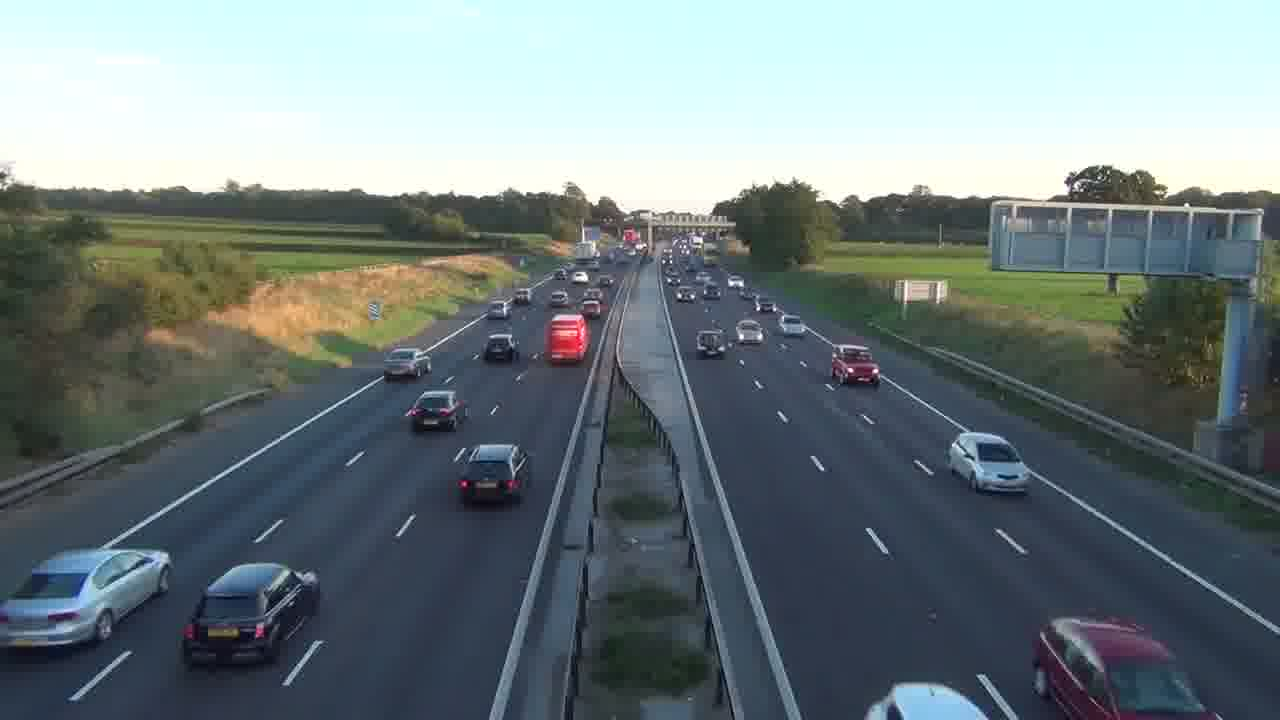car: (0, 545, 174, 650), (180, 561, 321, 668), (947, 430, 1030, 495), (453, 442, 532, 507), (864, 682, 989, 720), (404, 390, 467, 431), (830, 345, 881, 387), (383, 348, 432, 382), (483, 333, 516, 362)
truck: (1032, 614, 1223, 719)
